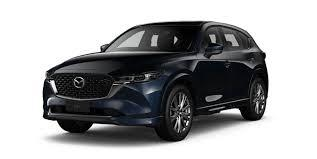mazda: (68, 71, 88, 90)
